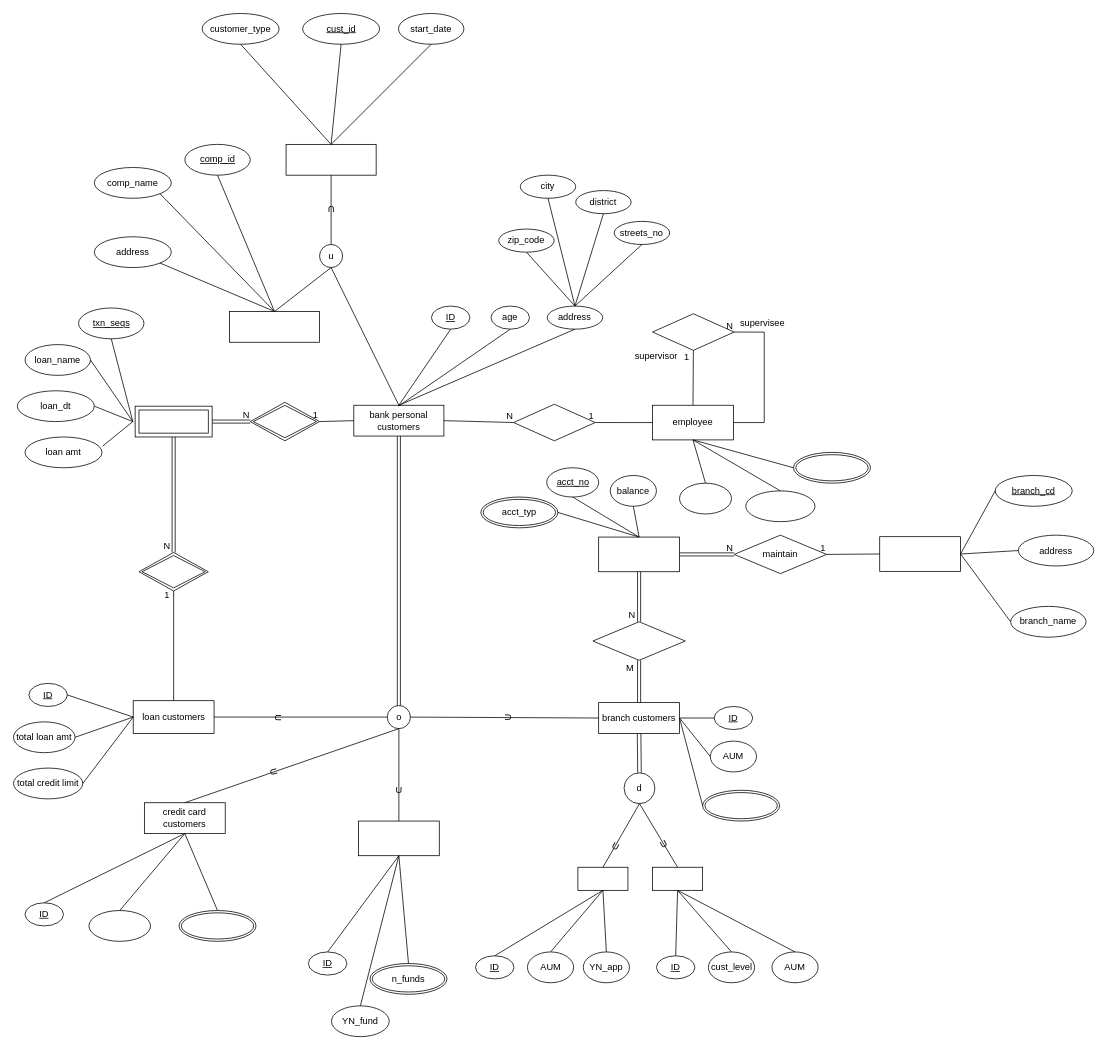
The diagram is 1107 pixels wide and 1050 high, and some of its shapes have lost their labels. The shapes that lost their labels are listed below. From the top down, each one's centre as x and y in pixels, then its label:
At [330,159]: "bank customers".
At [274,326]: "bank corporate customers".
At [693,331]: "supervise".
At [173,421]: "loan_txns".
At [284,421]: "borrows".
At [554,422]: "manage".
At [831,467]: "dept_nm".
At [705,498]: "emp_no".
At [780,506]: "YN_manager".
At [173,571]: "holds".
At [639,554]: "acct".
At [920,553]: "branch".
At [638,640]: "hold".
At [741,805]: "branch_belong".
At [398,838]: "investment customers".
At [602,878]: "mass".
At [677,878]: "affluent".
At [119,925]: "monthly spending".
At [217,925]: "n_cards".
